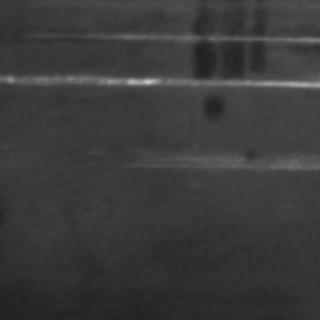inclusion: (188, 4, 276, 88)
scratches: (2, 66, 316, 96), (38, 24, 318, 52), (132, 140, 312, 176)
